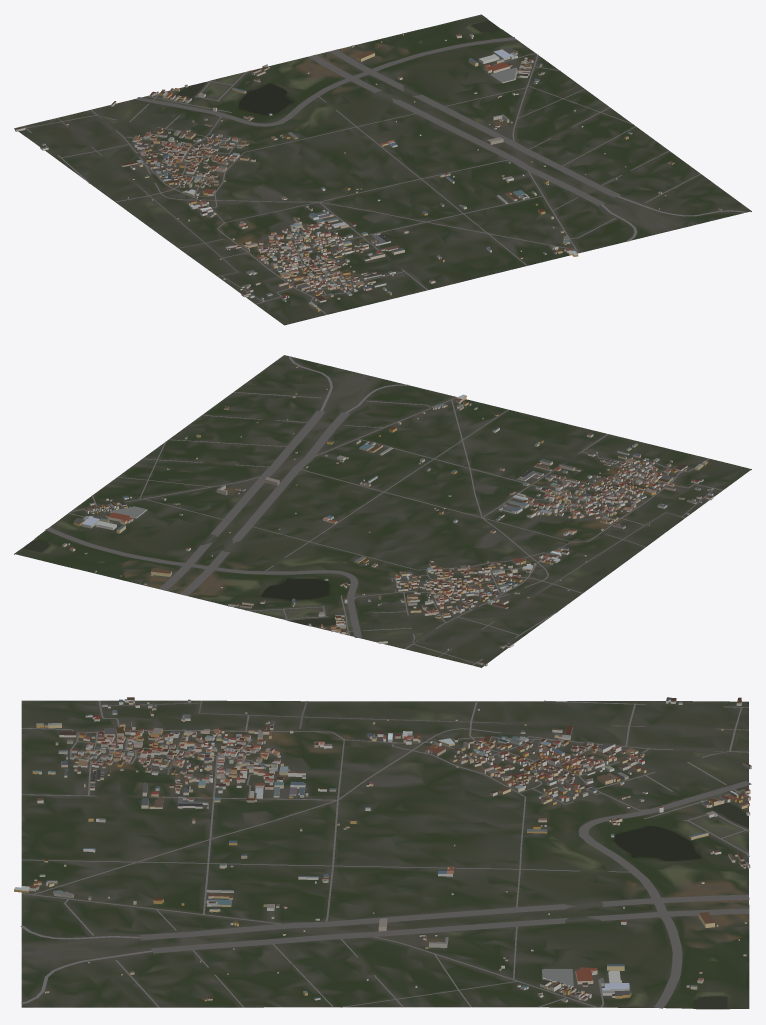
3 views of the same model, one above another, from view 1: azimuth 30°, elevation 25°; view 2: azimuth 150°, elevation 25°; view 3: azimuth 270°, elevation 25° (orthographic). The views are drawn at different scales.
Parts seen in each view (by area): view 1: ground, buildings, roads, water; view 2: ground, buildings, roads, water; view 3: ground, buildings, roads, water.
Boxes of the visible parts, x1,y1,x2,y2 form: ground: (14,14,751,325); buildings: (15,33,721,311); roads: (23,37,746,314); water: (176,20,499,115); ground: (14,355,751,667); buildings: (62,365,713,666); roads: (45,356,722,665); water: (23,540,335,625); ground: (21,700,749,1009); buildings: (14,697,751,1002); roads: (20,700,751,1008); water: (614,803,748,1008).
Bounding box in the file's own units: 1409 × 17.3 × 1422.
